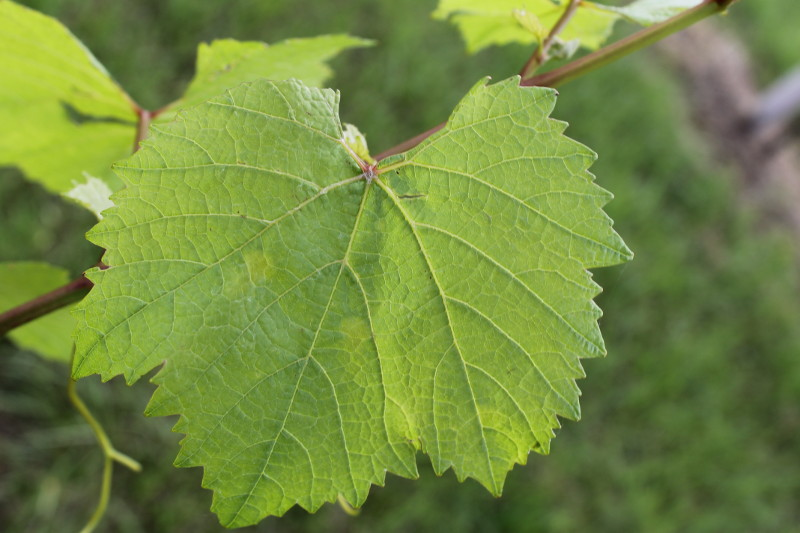downy: (234, 247, 287, 300), (340, 314, 386, 360)
